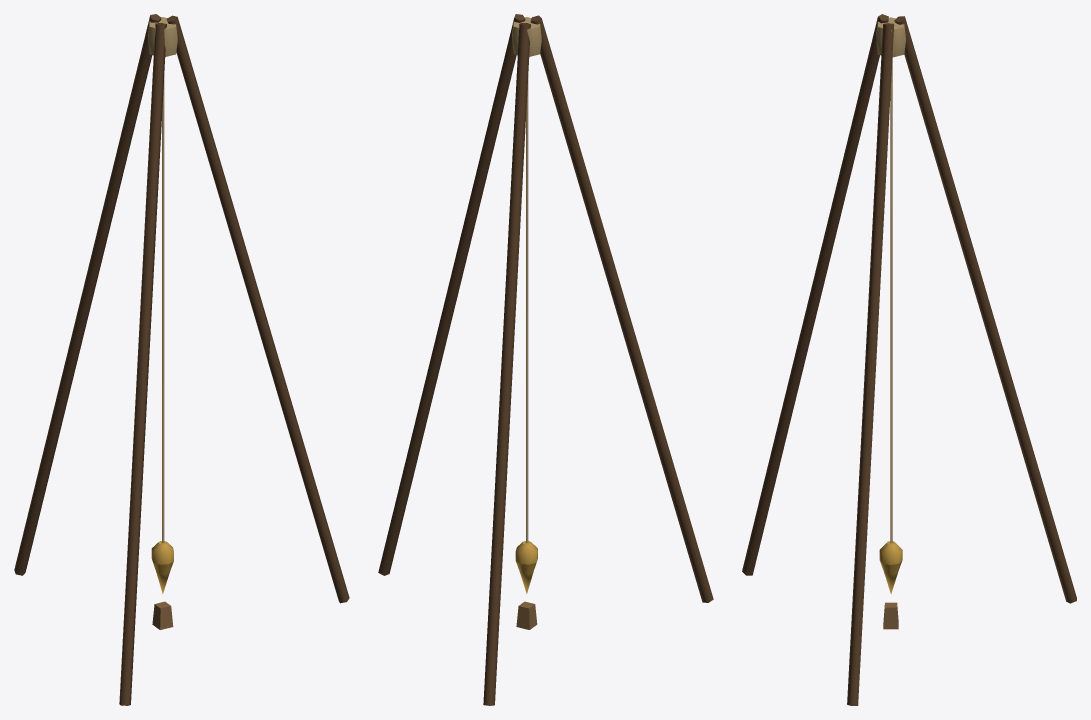
The model's file is plumb_tripod.glb.
3 views of the same model, side by side, from view 1: azimuth 30°, elevation 25°; view 2: azimuth 150°, elevation 25°; view 3: azimuth 270°, elevation 25° (orthographic).
Visible parts, largest first — view 1: plumb_tripod; view 2: plumb_tripod; view 3: plumb_tripod.
Part boxes in pixels (box(x1,y1,x2,y2)): plumb_tripod: box(14, 14, 349, 705); plumb_tripod: box(378, 14, 713, 705); plumb_tripod: box(742, 14, 1076, 705).
Bounding box in the file's own units: 0.8508 × 1.76 × 0.8772.
